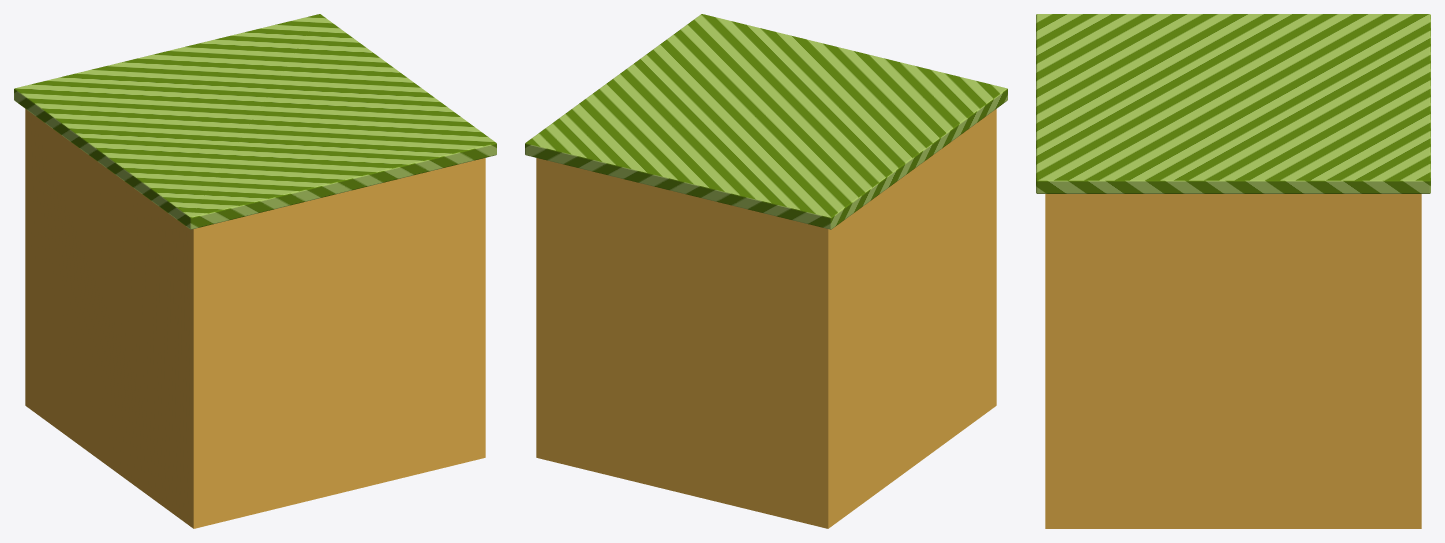
File: ground.fbx
The picture shows the model from 3 angles, left to right: view 1: azimuth 30°, elevation 25°; view 2: azimuth 150°, elevation 25°; view 3: azimuth 270°, elevation 25°; orthographic projection. The views are drawn at different scales.
Visible parts, largest first — view 1: Cube.001, Cube; view 2: Cube.001, Cube; view 3: Cube.001, Cube.
Part boxes in pixels (x1,y1,x2,y2): Cube.001: (25,109,485,528); Cube: (14,14,496,229); Cube.001: (536,109,996,528); Cube: (525,14,1007,229); Cube.001: (1045,194,1421,528); Cube: (1036,14,1430,193).
Bounding box in the file's own units: 654 × 644 × 654.
